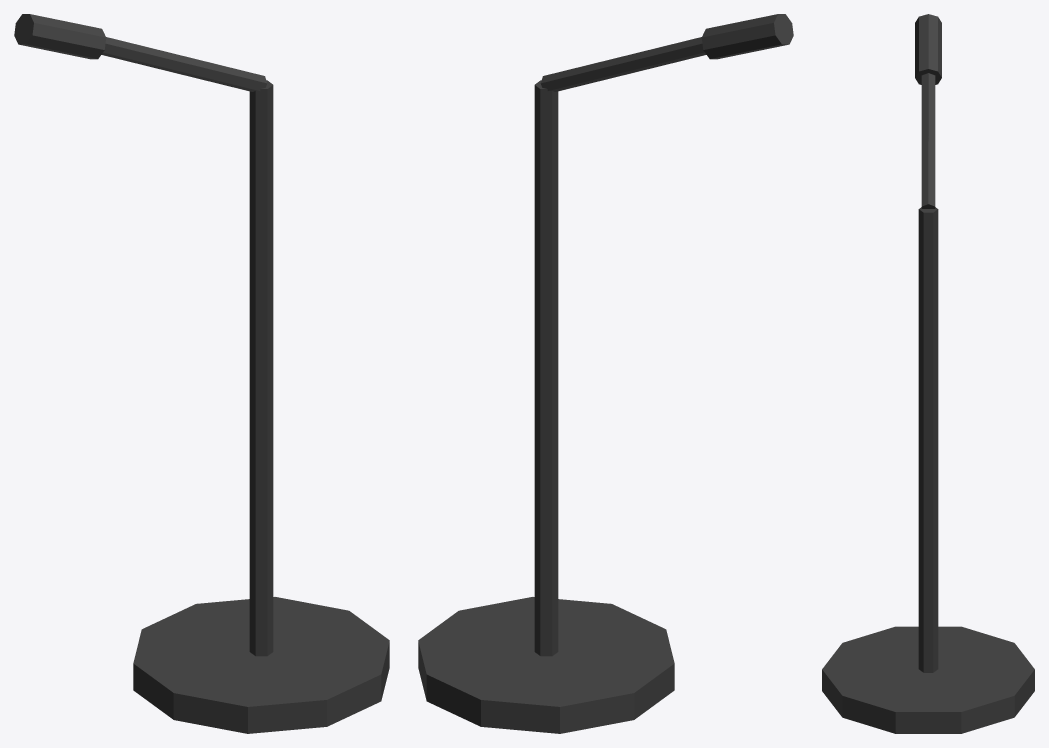
The picture shows the model from 3 angles, left to right: view 1: azimuth 30°, elevation 25°; view 2: azimuth 150°, elevation 25°; view 3: azimuth 270°, elevation 25°; orthographic projection. The views are drawn at different scales.
Parts seen in each view (by area): view 1: Base, Pole, Boom, Microphone; view 2: Base, Pole, Boom, Microphone; view 3: Base, Pole, Boom, Microphone.
Part boxes in pixels (box(x1,y1,x2,y2)): Base: box(133, 597, 389, 733); Pole: box(249, 80, 273, 656); Boom: box(101, 37, 267, 91); Microphone: box(14, 14, 106, 59); Base: box(418, 597, 674, 733); Pole: box(534, 80, 558, 656); Boom: box(540, 37, 706, 91); Microphone: box(701, 14, 793, 59); Base: box(822, 626, 1034, 733); Pole: box(918, 207, 938, 672); Boom: box(921, 73, 935, 208); Microphone: box(915, 14, 941, 84).
Bounding box in the file's own units: 0.6803 × 1.34 × 0.44.
1 material, 1 textured.
